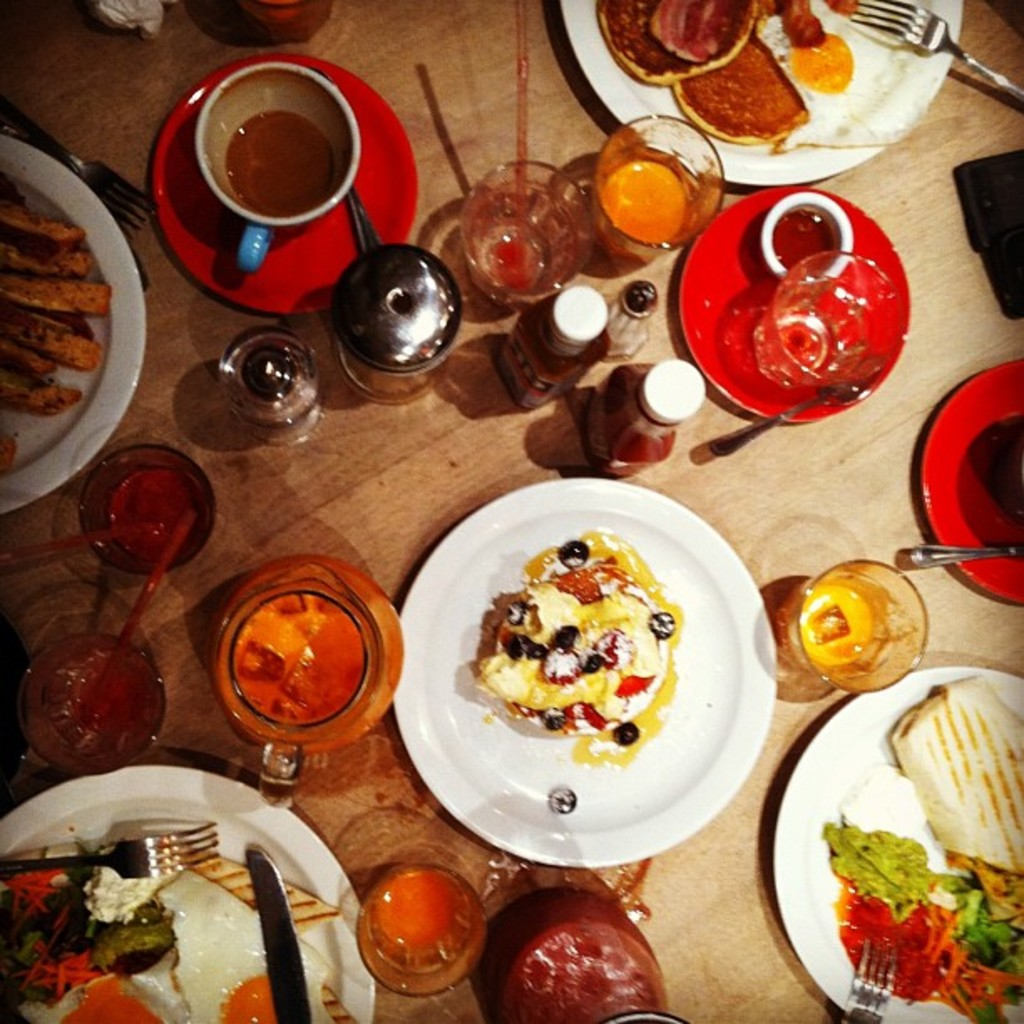person: (59, 0, 350, 53)
